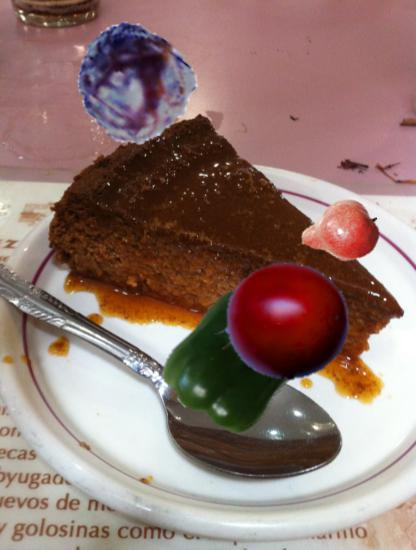Dates: (74, 26, 192, 144)
Pear: (296, 192, 381, 277)
Pepper: (167, 288, 312, 433)
Tamarillo: (213, 253, 350, 390)
